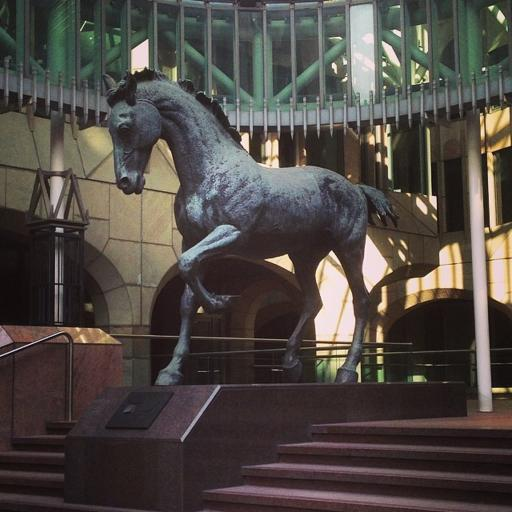horse: (100, 66, 398, 388)
